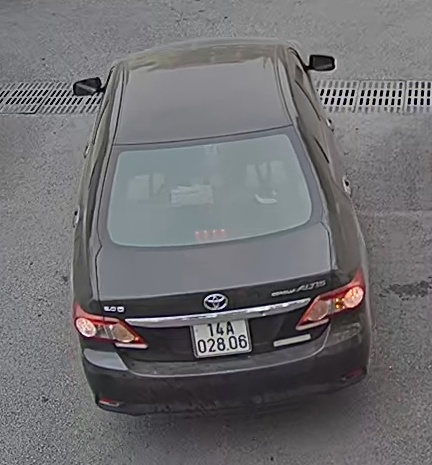vehicle plate: (184, 318, 255, 361)
